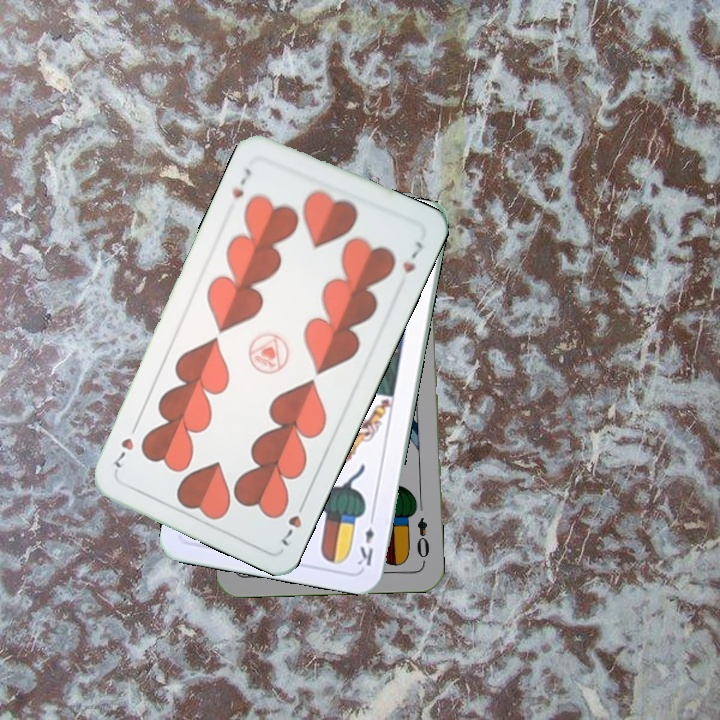EK: (353, 510, 378, 569)
EO: (412, 514, 432, 566)
H7: (277, 495, 309, 549), (228, 164, 254, 202)
